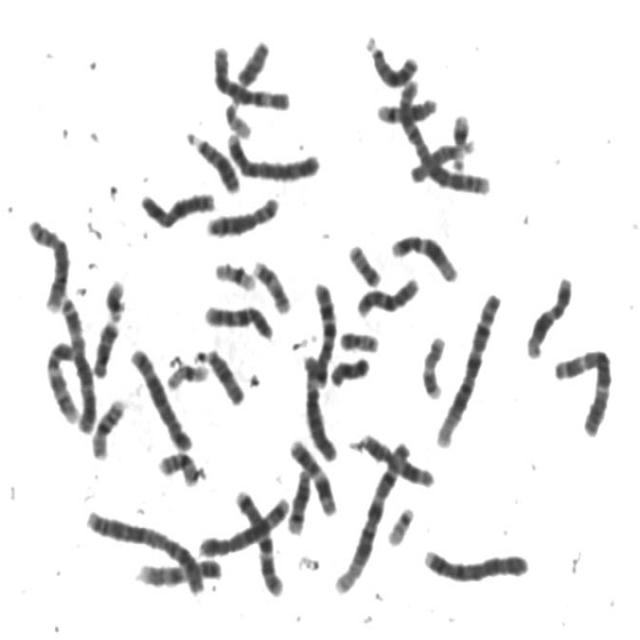A1: (330, 432, 416, 597), (430, 285, 506, 450)
A2: (394, 70, 495, 198), (79, 501, 209, 596)
A3: (550, 339, 617, 438), (55, 288, 99, 435)
B4: (222, 124, 324, 183), (418, 539, 533, 584)
B5: (126, 338, 196, 453), (195, 488, 294, 559)
C10: (351, 269, 424, 320), (200, 295, 277, 342)
C11: (354, 424, 438, 489), (284, 430, 341, 518)
C12: (522, 267, 576, 360), (386, 225, 462, 284)
C6: (208, 36, 294, 111), (298, 344, 342, 464)
C7: (230, 482, 287, 599), (306, 273, 340, 390)
C8: (21, 210, 73, 314), (202, 187, 284, 239)
C9: (35, 335, 93, 426), (132, 548, 226, 590)
D13: (182, 124, 244, 196), (361, 26, 422, 89)
D14: (372, 89, 441, 125), (283, 461, 315, 536)
D15: (190, 339, 249, 407), (406, 136, 471, 184)
E16: (86, 390, 129, 460), (154, 442, 206, 488)
E17: (249, 252, 295, 316), (418, 327, 450, 401)
E18: (88, 313, 122, 380), (325, 348, 373, 388)
F19: (210, 252, 260, 292), (162, 355, 212, 392)
F20: (344, 235, 385, 288), (335, 322, 383, 354)
G21: (100, 271, 131, 323), (448, 104, 478, 157)
G22: (382, 498, 418, 548), (220, 94, 256, 139)
X: (135, 182, 220, 230)
Y: (232, 31, 273, 88)
